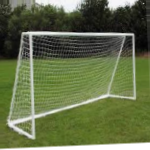goals: (6, 29, 138, 140)
